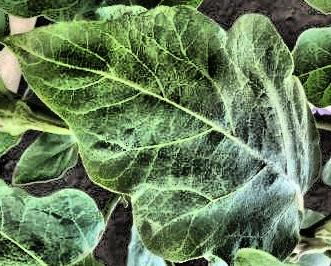HEALTHY: (1, 1, 331, 266)
